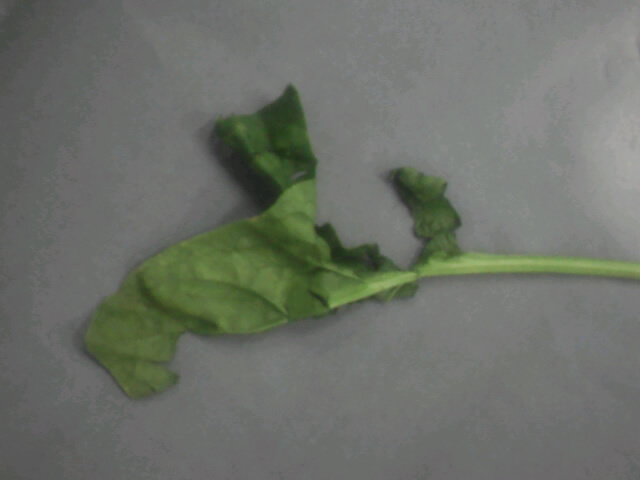yellow: (49, 74, 516, 393)
